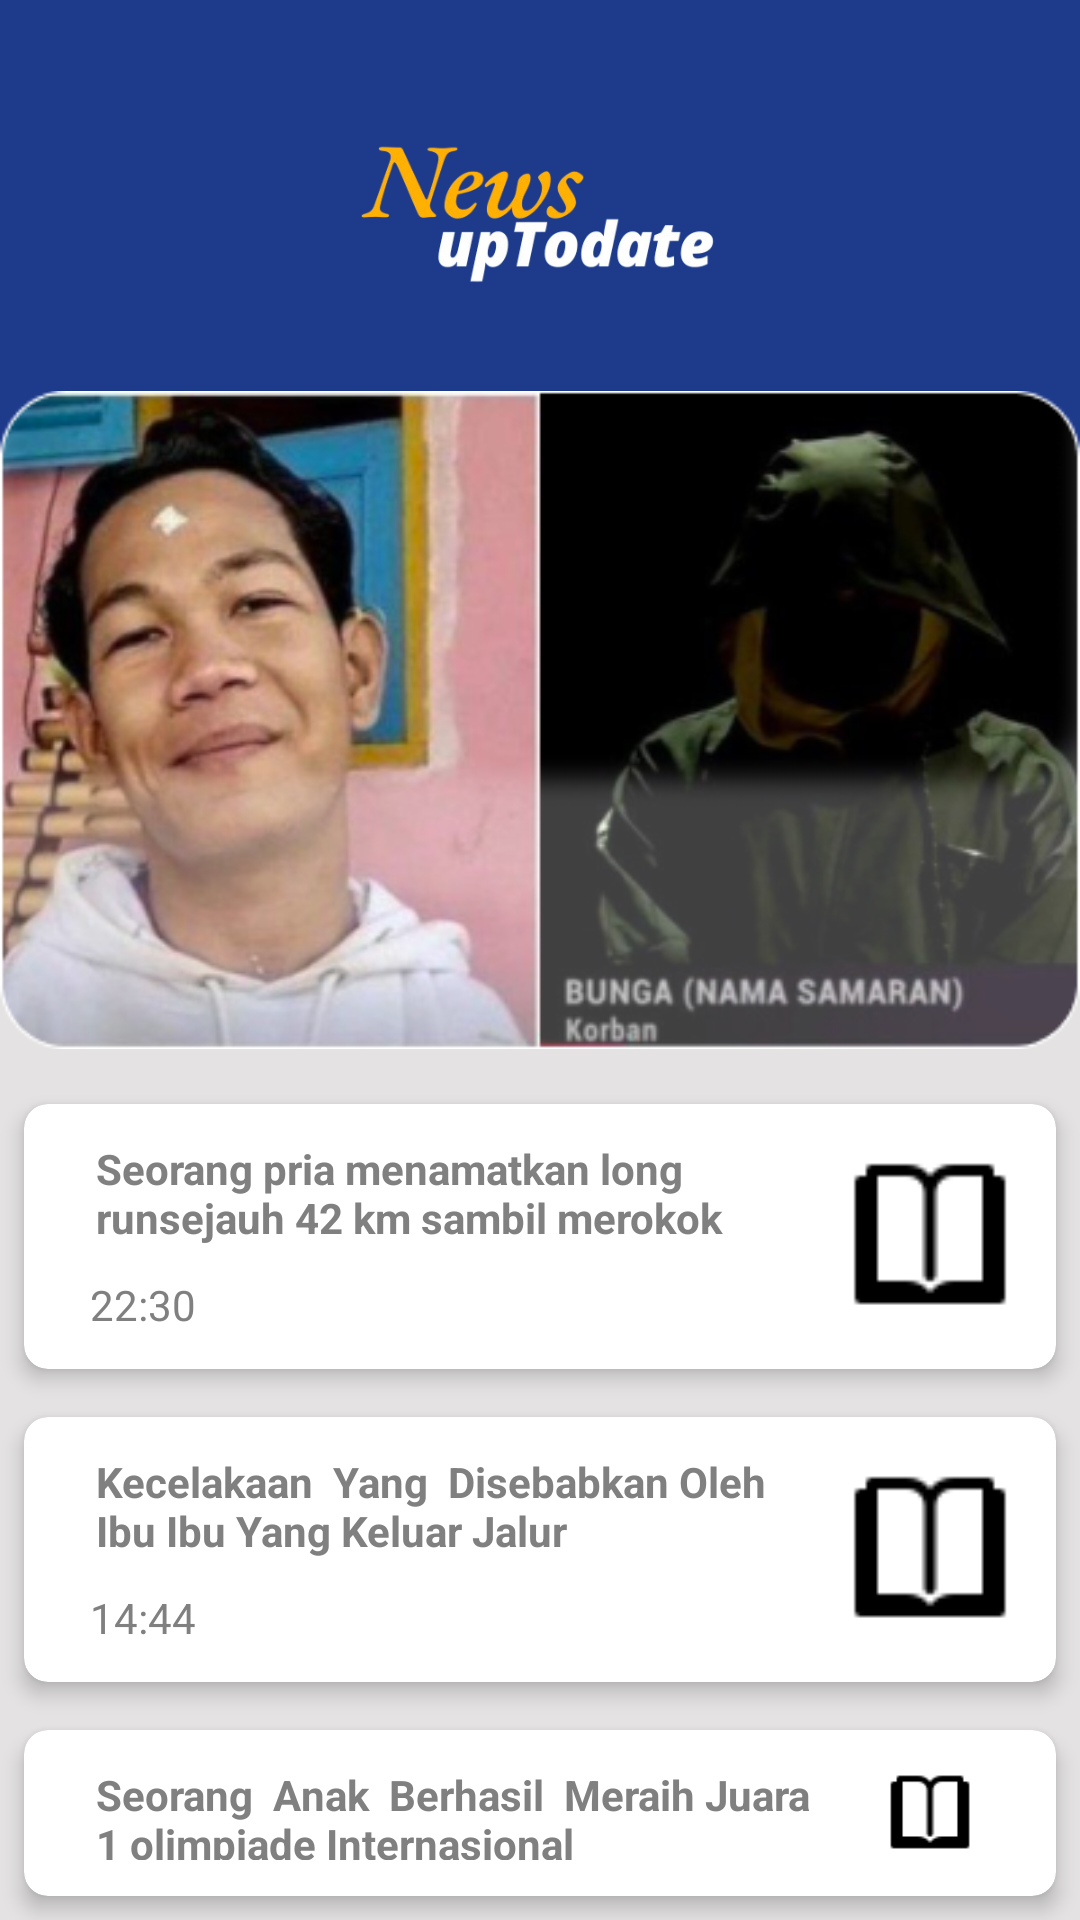

Named icons in this screenshot (1080px x 1920px) and their centers, point (x, y):
buku: point (930, 1234), point (930, 1547), point (930, 1812)
